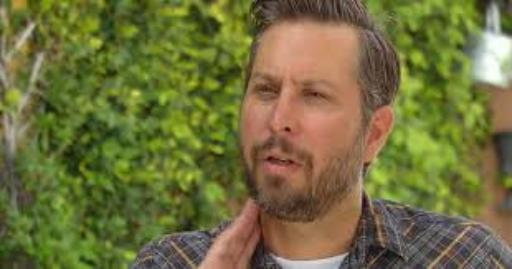left_eye: (302, 89, 334, 106)
left_lip_corner: (291, 158, 303, 170)
right_eye: (253, 81, 276, 99)
